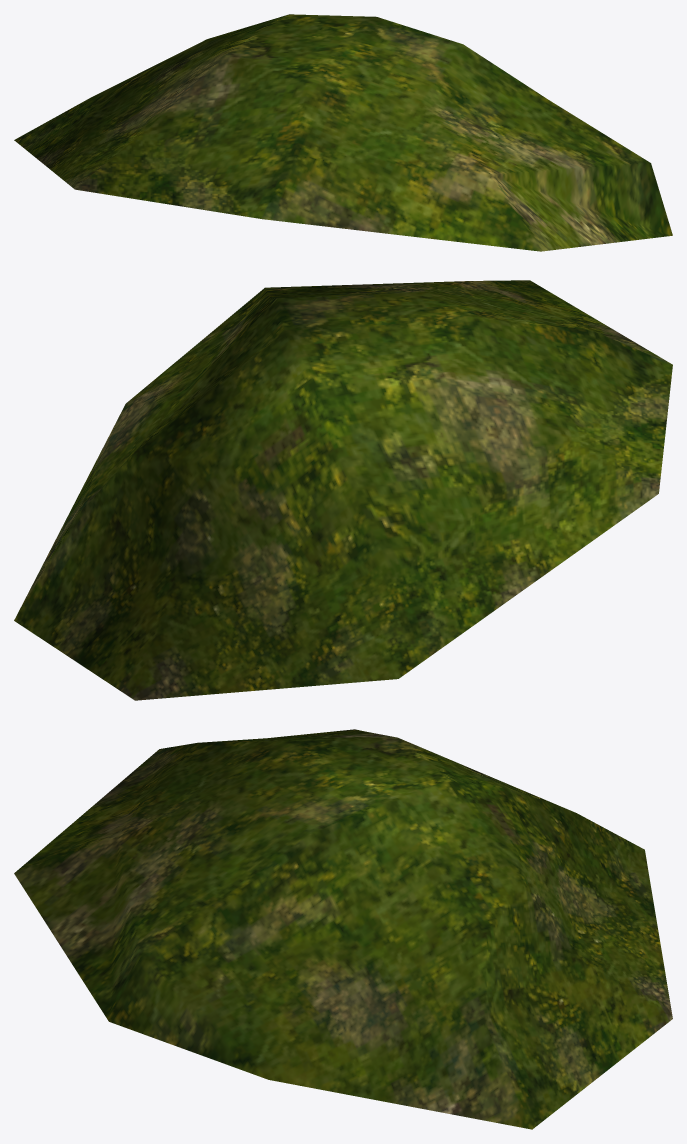
Rendered from OVERHILL_A_01_ROCK206.fbx.
3 renders of one model, top to bottom at view 1: azimuth 30°, elevation 25°; view 2: azimuth 150°, elevation 25°; view 3: azimuth 270°, elevation 25°, orthographic. The views are drawn at different scales.
Visible parts, largest first — view 1: OVERHILL_A_01_ROCK206; view 2: OVERHILL_A_01_ROCK206; view 3: OVERHILL_A_01_ROCK206.
Boxes of the visible parts, x1,y1,x2,y2 form: OVERHILL_A_01_ROCK206: [14, 14, 672, 251]; OVERHILL_A_01_ROCK206: [14, 280, 672, 700]; OVERHILL_A_01_ROCK206: [14, 729, 672, 1129].
Size of the model in its own units: 10020 by 4587 by 11092.
1 material, 1 textured.
